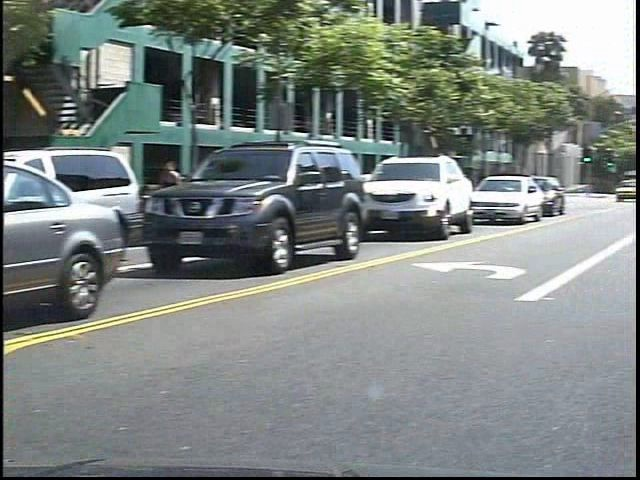person: (170, 154, 200, 233)
